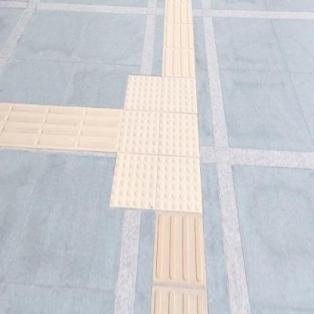Podoctatil: (99, 51, 223, 237), (149, 210, 210, 313), (0, 104, 117, 154), (161, 0, 195, 74)
